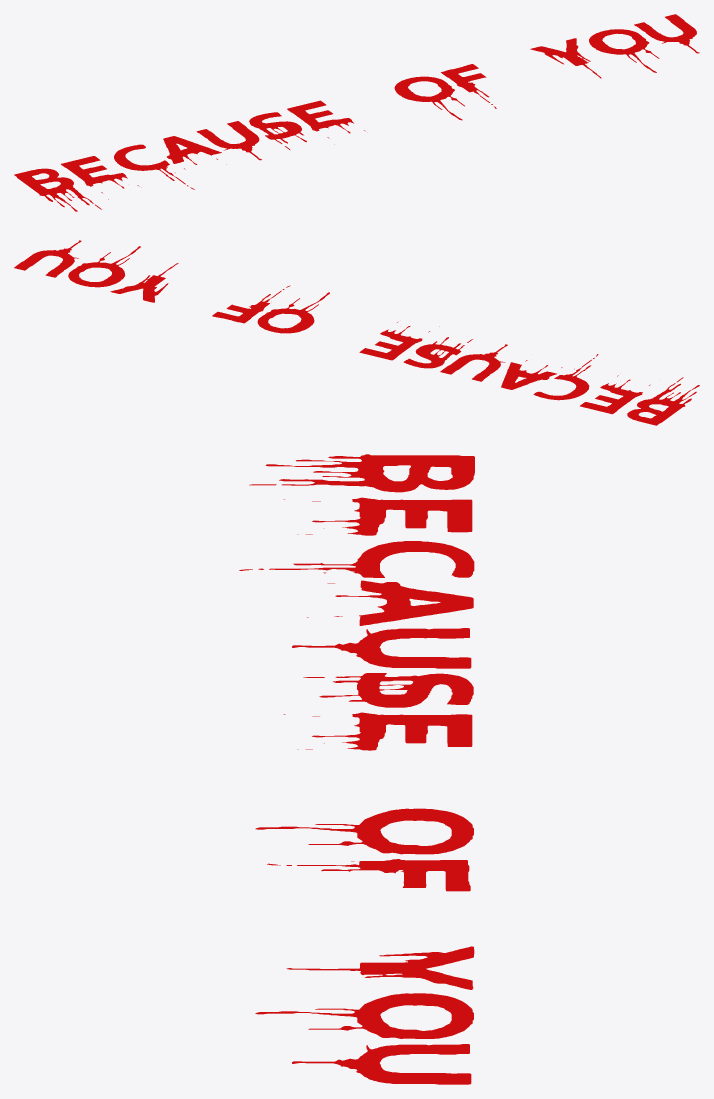
3 renders of one model, top to bottom at view 1: azimuth 30°, elevation 25°; view 2: azimuth 150°, elevation 25°; view 3: azimuth 270°, elevation 25°, orthographic. The views are drawn at different scales.
Parts seen in each view (by area): view 1: Text; view 2: Text; view 3: Text.
Boxes of the visible parts, x1,y1,x2,y2 form: Text: (14,14,699,211); Text: (14,240,699,425); Text: (239,454,474,1084).
Bounding box in the file's own units: 594 × 1.53e-05 × 94.01.
